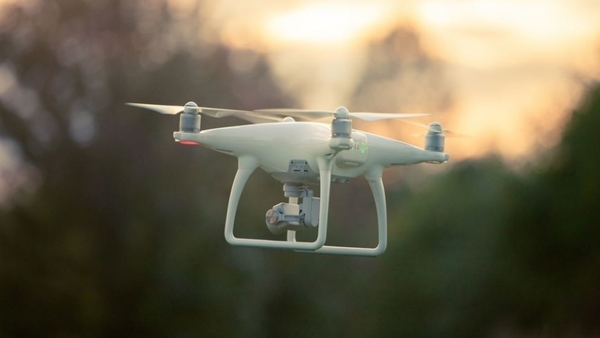drone: (123, 96, 457, 258)
